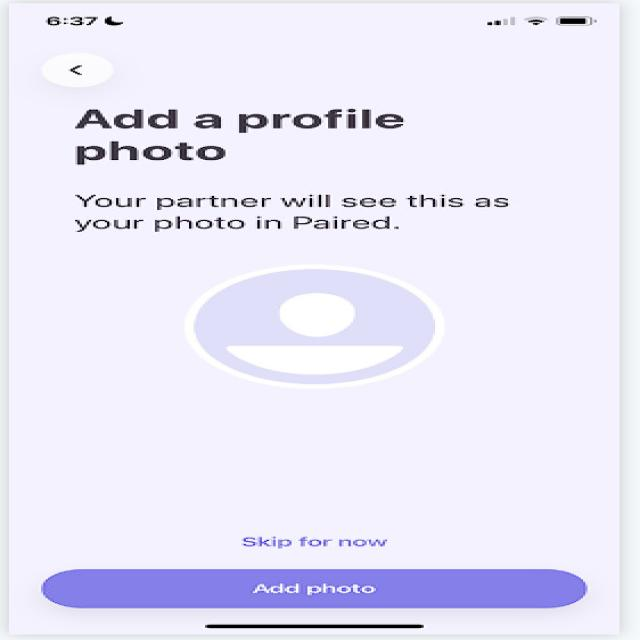button: (21, 557, 596, 615)
icon button: (32, 48, 125, 95)
spacer: (12, 399, 610, 524)
text: (55, 183, 560, 235), (66, 101, 430, 167), (231, 530, 401, 550)
view: (166, 245, 455, 395)
